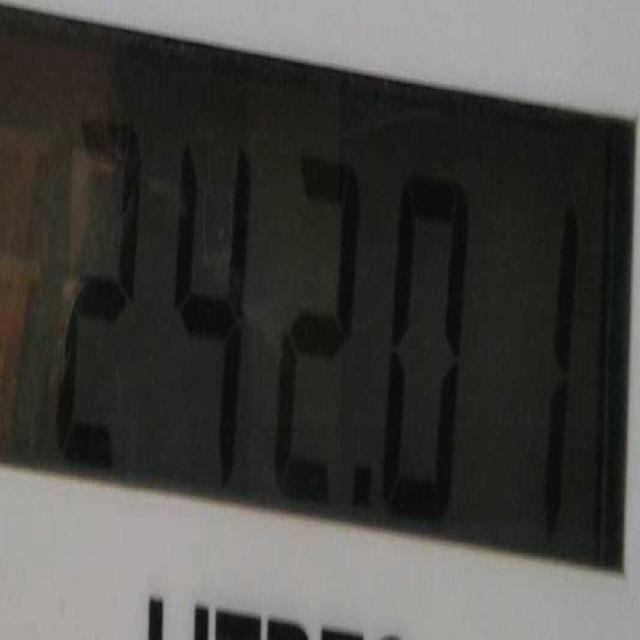.: (348, 456, 379, 526)
0: (375, 153, 477, 537)
1: (524, 174, 590, 553)
2: (50, 85, 152, 492), (272, 122, 358, 526)
4: (167, 112, 256, 495)
